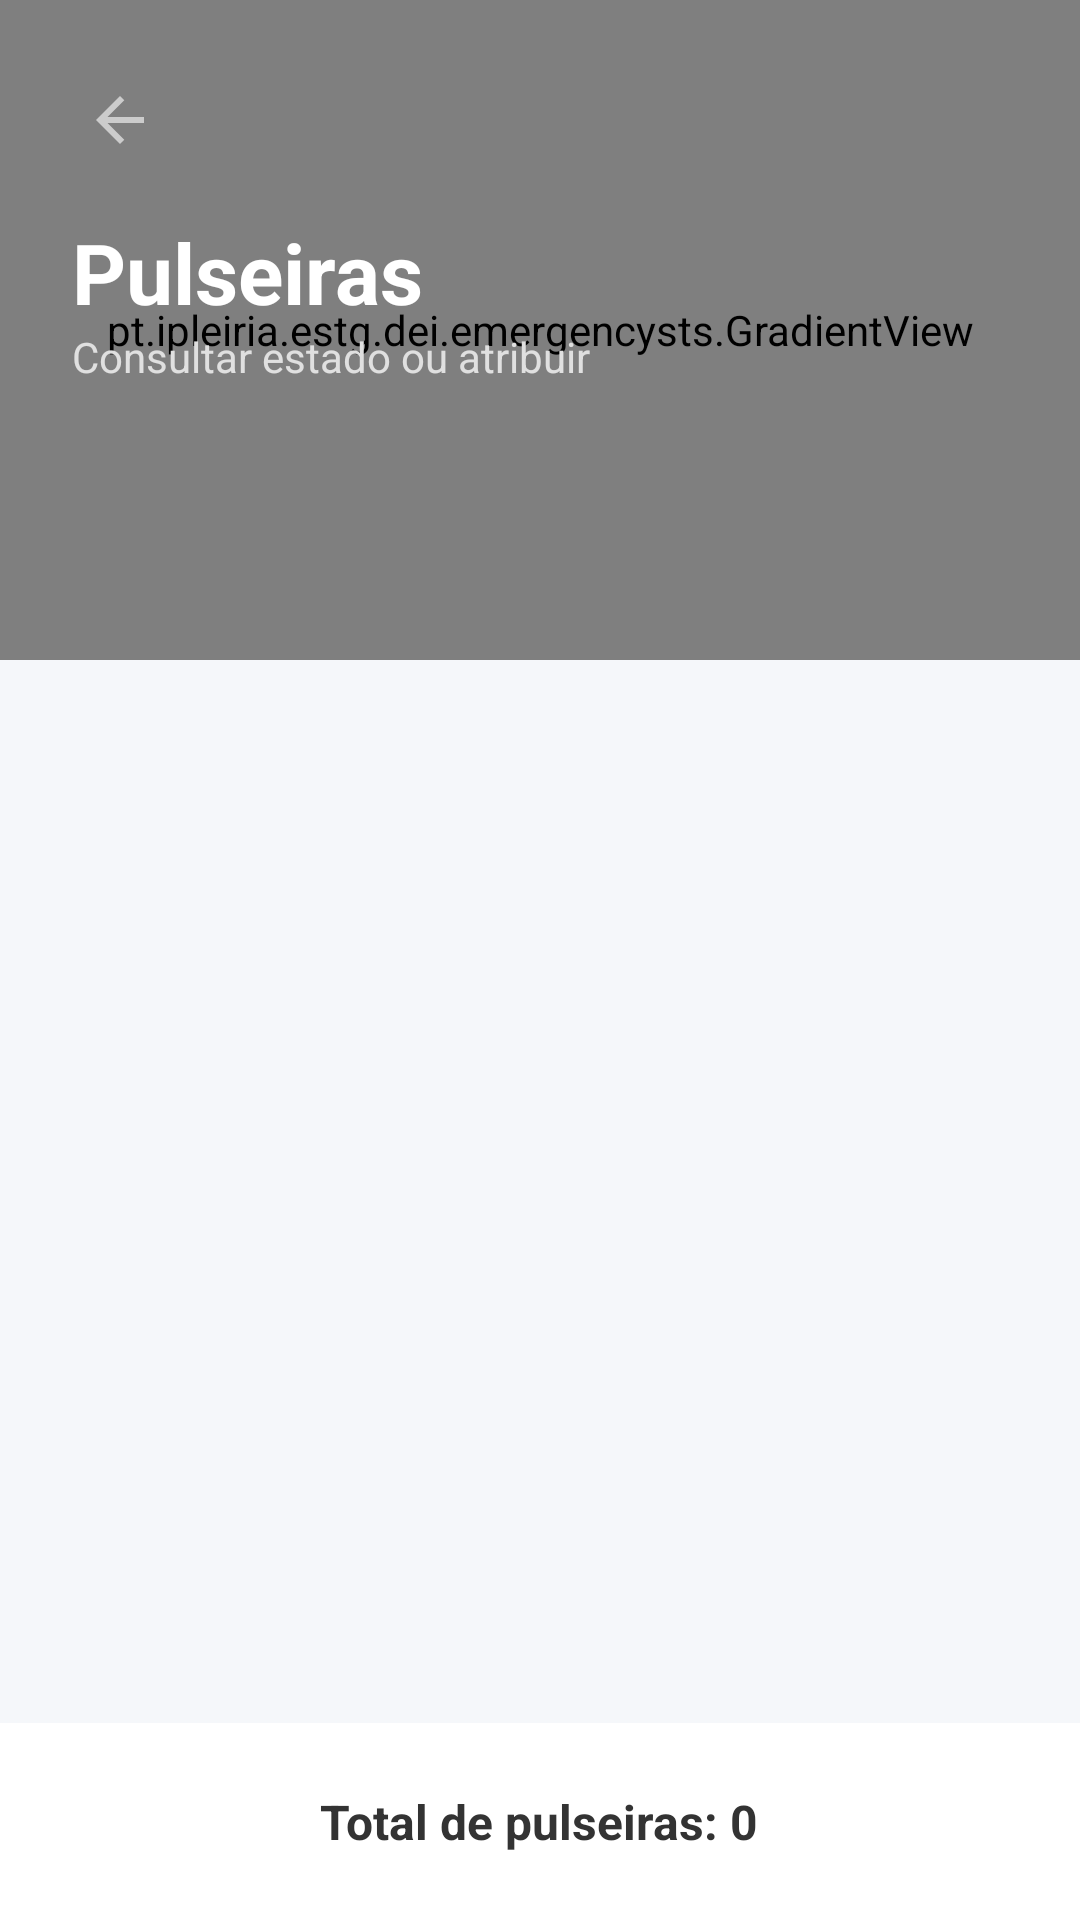

Screen size 1080px x 1920px. Icon name, then its center in pixels as [x,y]:
voltaratras: [120,120]
